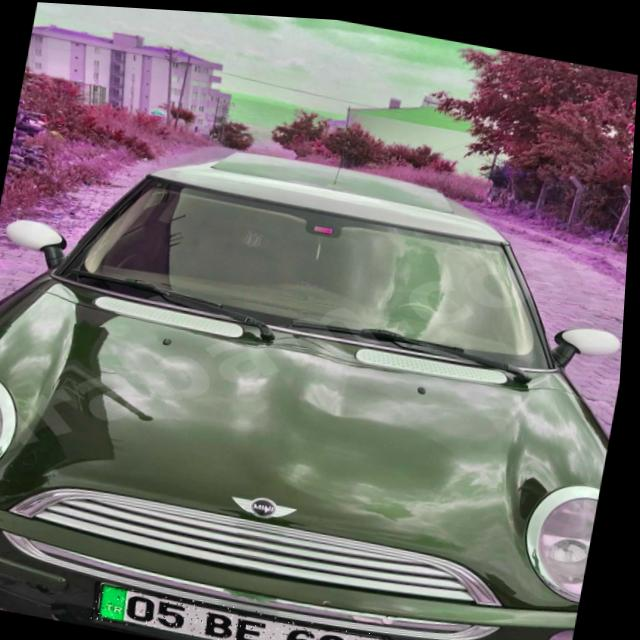license_plate: (96, 580, 399, 640)
